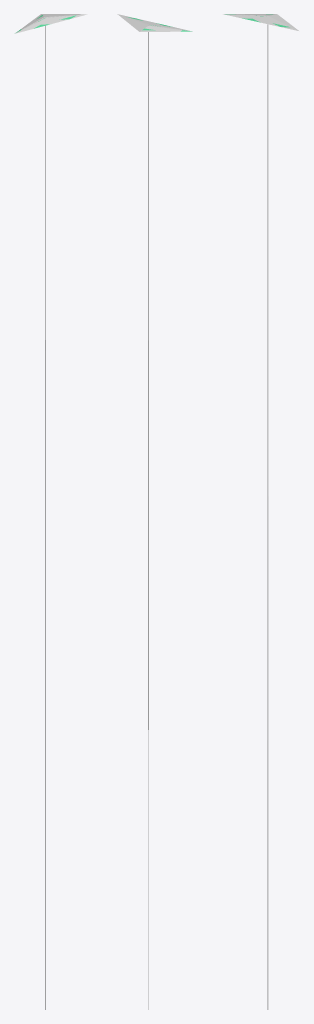
The model's file is floaty13.fbx.
3 renders of one model, left to right at view 1: azimuth 30°, elevation 25°; view 2: azimuth 150°, elevation 25°; view 3: azimuth 330°, elevation 25°, orthographic.
Parts seen in each view (by area): view 1: Cylinder.001, Torus.001; view 2: Cylinder.001, Torus.001; view 3: Cylinder.001, Torus.001.
Boxes of the visible parts, left/top/right/bottom form: Cylinder.001: left=45, top=25, right=45, bottom=1009; Torus.001: left=14, top=14, right=87, bottom=33; Cylinder.001: left=148, top=32, right=148, bottom=1009; Torus.001: left=117, top=14, right=192, bottom=31; Cylinder.001: left=267, top=24, right=268, bottom=1009; Torus.001: left=223, top=14, right=298, bottom=30.
Size of the model in its own units: 3446 by 43037 by 1093.
